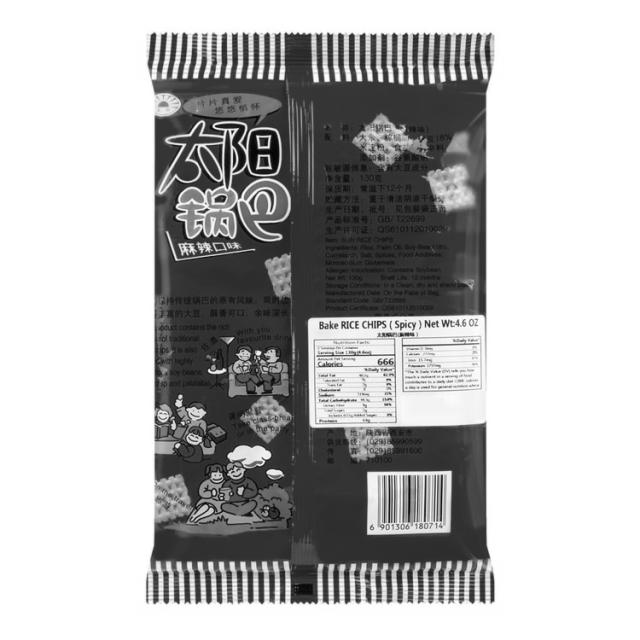Nutrition Label: (312, 333, 400, 427)
